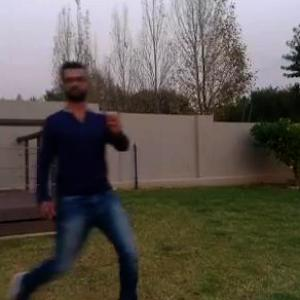takeoff-hand: (101, 98, 125, 134)
